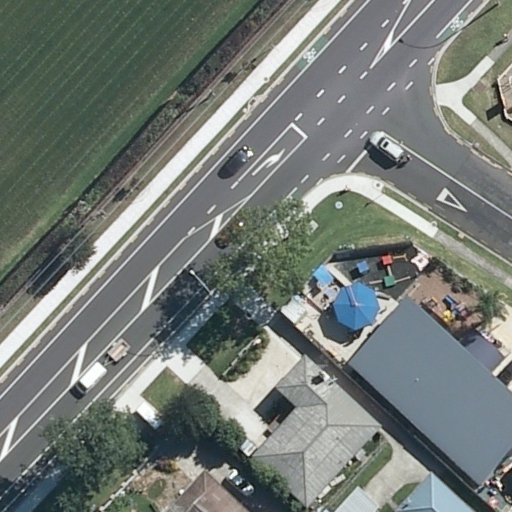DT: (93, 205, 109, 222), (204, 85, 217, 101)
